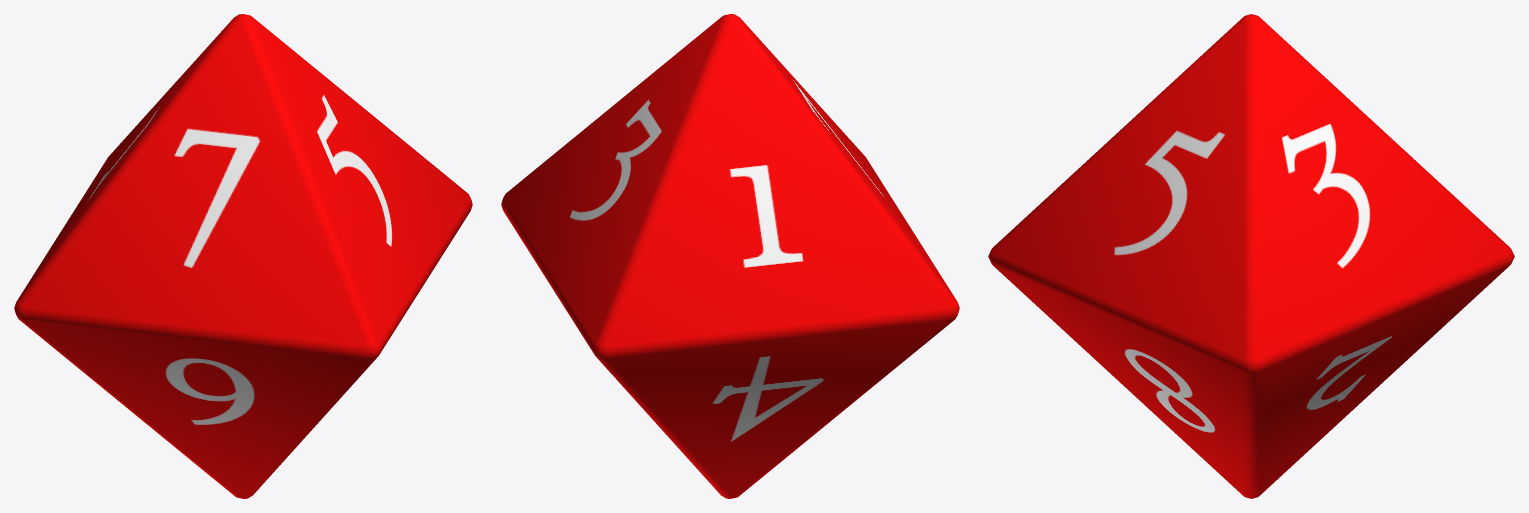
3 views of the same model, side by side, from view 1: azimuth 30°, elevation 25°; view 2: azimuth 150°, elevation 25°; view 3: azimuth 270°, elevation 25° (orthographic).
Visible parts, largest first — view 1: D8; view 2: D8; view 3: D8.
Part boxes in pixels (x1,y1,x2,y2): D8: [14, 14, 472, 498]; D8: [501, 14, 959, 498]; D8: [988, 14, 1514, 498].
Size of the model in its own units: 0.6485 by 0.6583 by 0.6485.
1 material, 1 textured.
